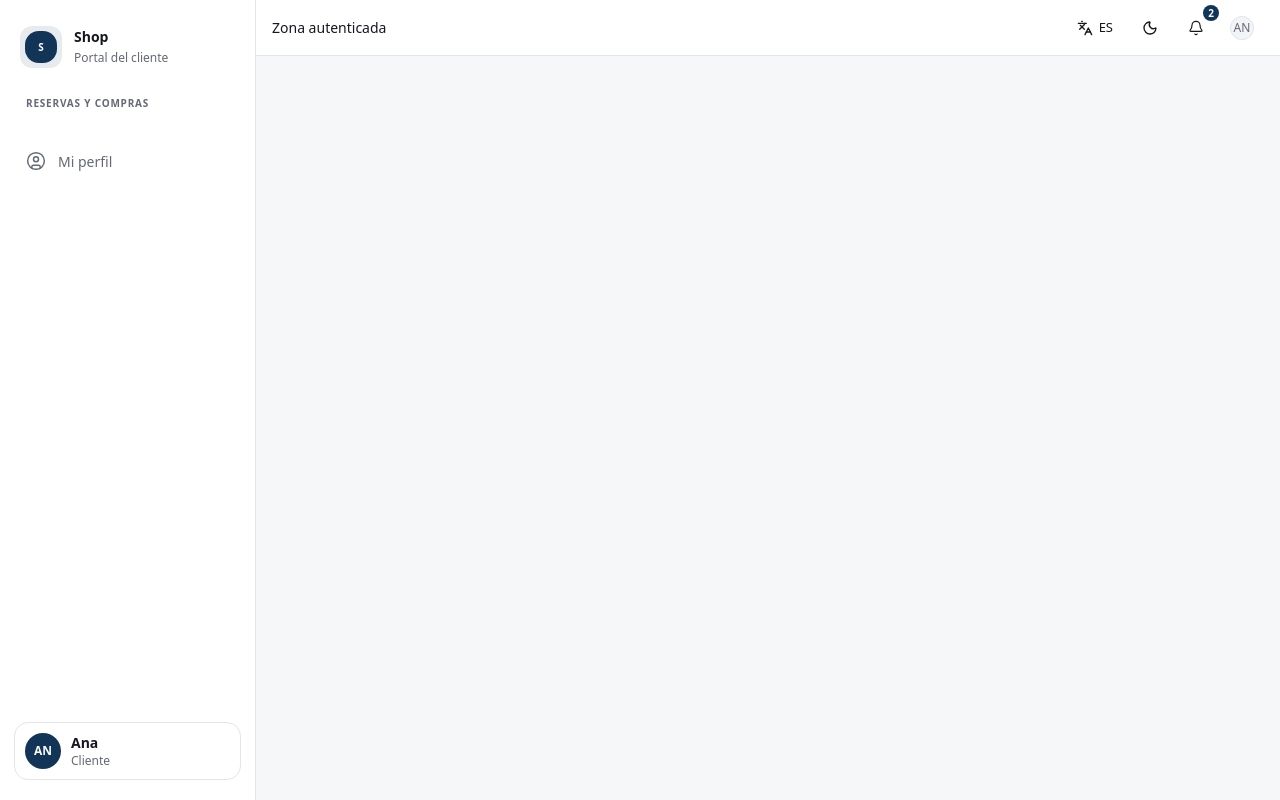
Test: recovers from a customer list failure using retry (es)
Click the button "2".
click(1196, 28)  # box x1=1174 y1=6 x2=1218 y2=50
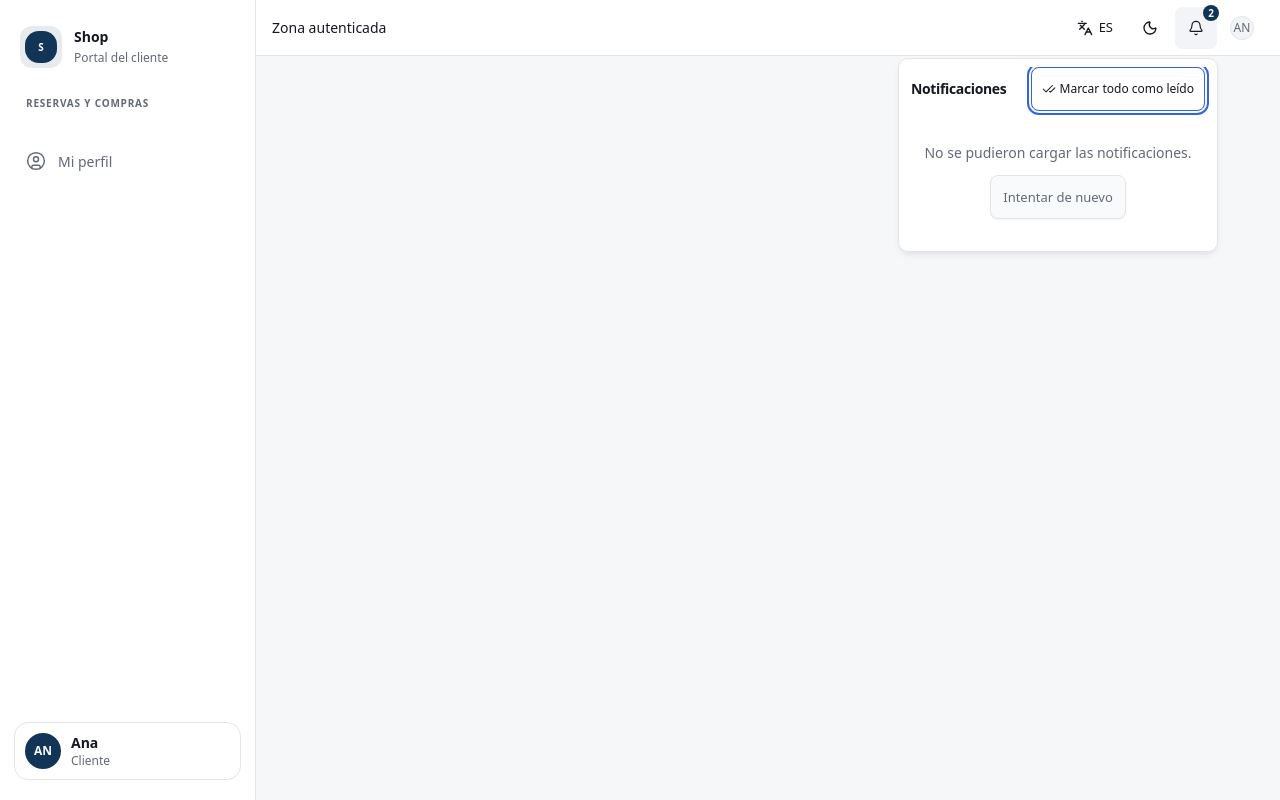
Expected: the message shows "No se pudieron cargar las notificaciones.", x1=924 y1=143 x2=1192 y2=162
Click the button "Intentar de nuevo".
click(1058, 197)  # box x1=990 y1=175 x2=1126 y2=219
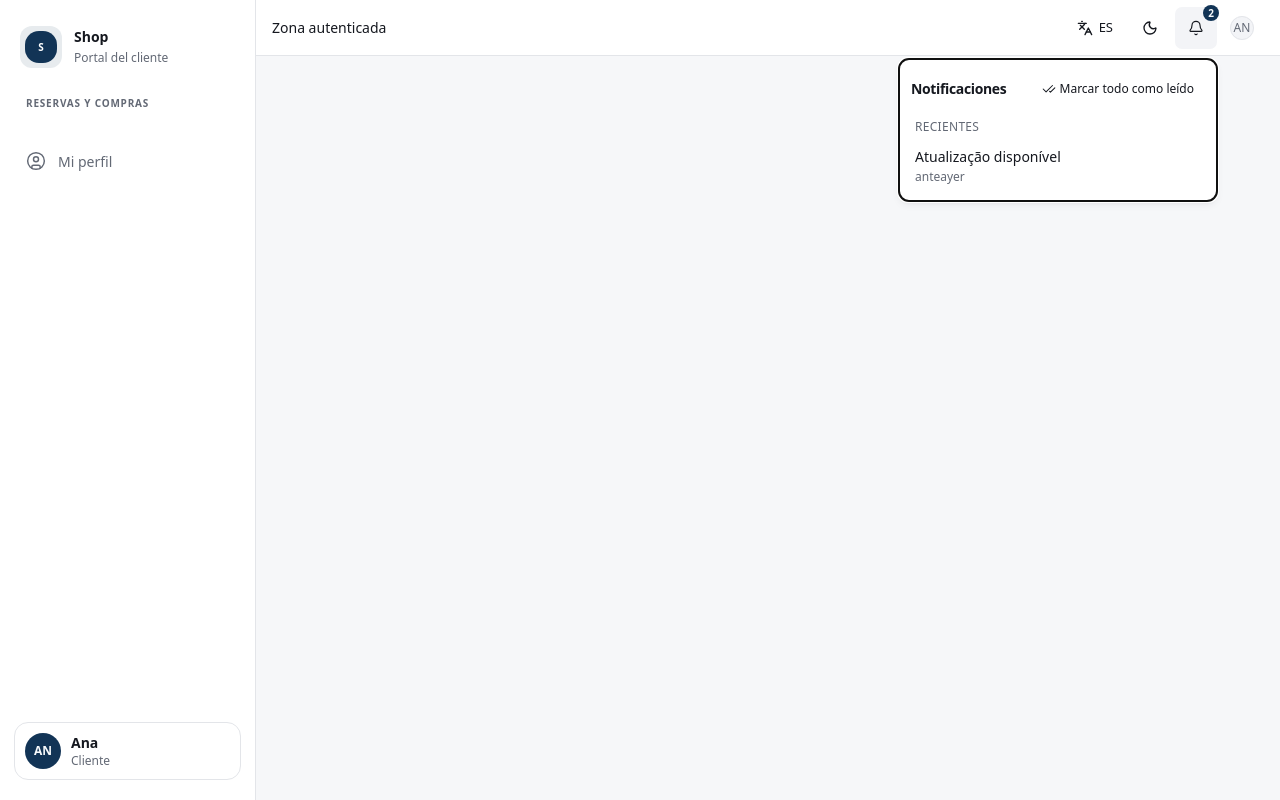
Expected: the button "Atualização disponível" is shown, x1=907 y1=139 x2=1209 y2=193
Expected: the message "No se pudieron cargar las notificaciones. Intentar de nuevo" is gone
